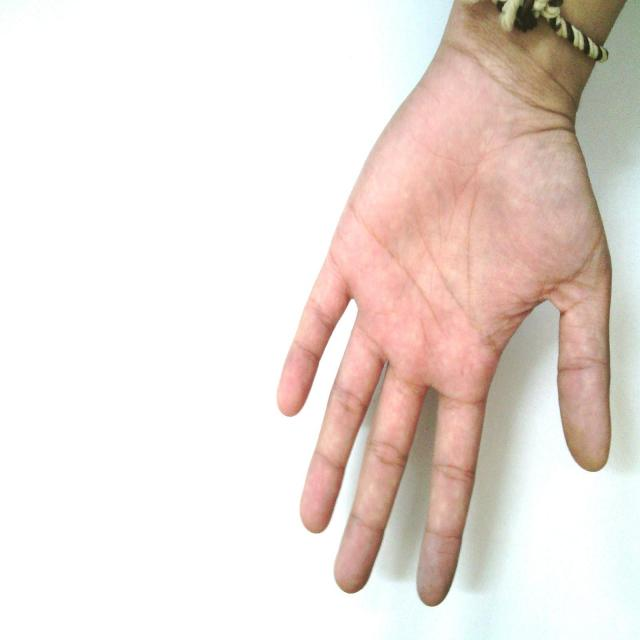others: (213, 1, 630, 604)
